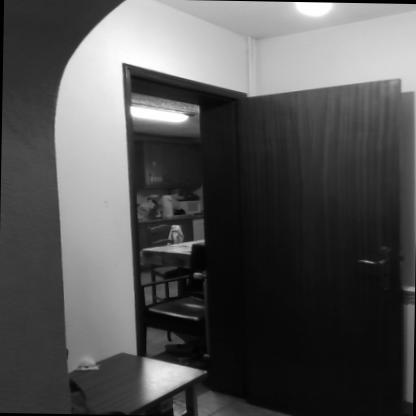open: (90, 40, 416, 416)
